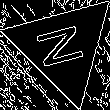N_E: (34, 20, 93, 73)
